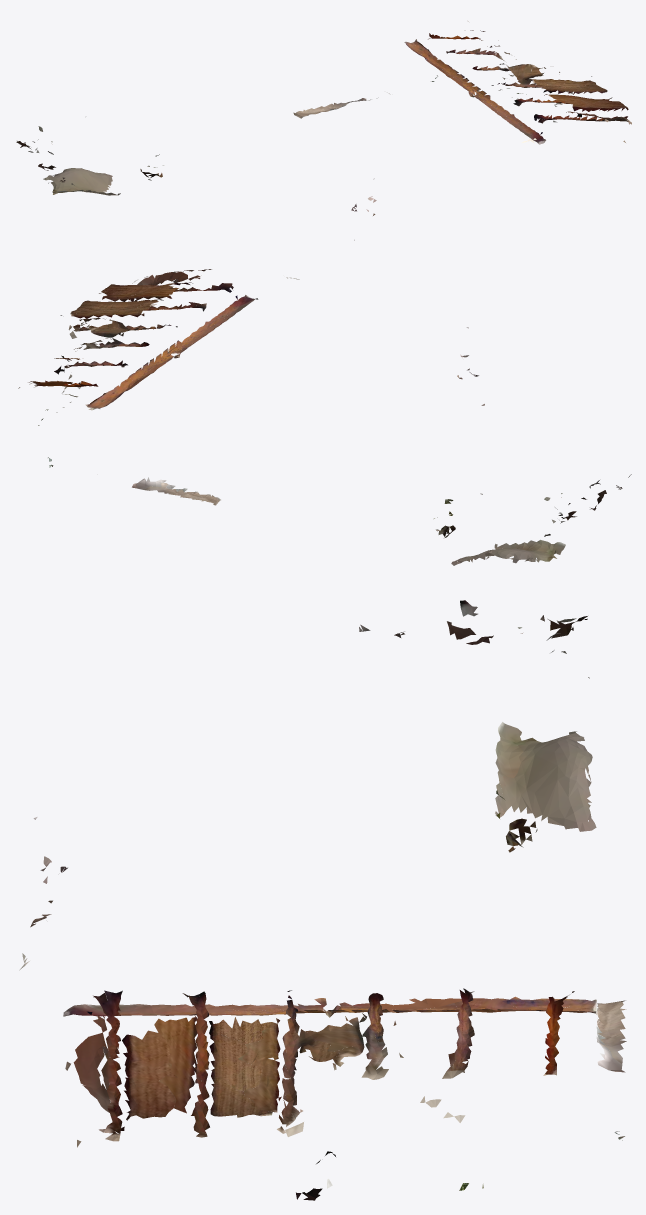
File: esc_baja_techo_04.glb
3 renders of one model, top to bottom at view 1: azimuth 30°, elevation 25°; view 2: azimuth 150°, elevation 25°; view 3: azimuth 270°, elevation 25°, orthographic. The views are drawn at different scales.
Parts seen in each view (by area): view 1: techo_Salon_y_porche_4_GLTF_12, techo_Salon_y_porche_4_GLTF_10, techo_Salon_y_porche_4_GLTF_6, techo_Salon_y_porche_4_GLTF_5, techo_Salon_y_porche_4_GLTF_7, techo_Salon_y_porche_4_GLTF_11, techo_Salon_y_porche_4_GLTF_1, techo_Salon_y_porche_4_GLTF_13; view 2: techo_Salon_y_porche_4_GLTF_12, techo_Salon_y_porche_4_GLTF_10, techo_Salon_y_porche_4_GLTF_5, techo_Salon_y_porche_4_GLTF_13, techo_Salon_y_porche_4_GLTF_6, techo_Salon_y_porche_4_GLTF_1, techo_Salon_y_porche_4_GLTF_11, techo_Salon_y_porche_4_GLTF_7; view 3: techo_Salon_y_porche_4_GLTF_12, techo_Salon_y_porche_4_GLTF_10, techo_Salon_y_porche_4_GLTF_5, techo_Salon_y_porche_4_GLTF_13, techo_Salon_y_porche_4_GLTF_7, techo_Salon_y_porche_4_GLTF_6, techo_Salon_y_porche_4_GLTF_1, techo_Salon_y_porche_4_GLTF_4, techo_Salon_y_porche_4_GLTF_9, techo_Salon_y_porche_4_GLTF_11.
Boxes of the visible parts, left/top/right/bottom form: techo_Salon_y_porche_4_GLTF_12: left=16, top=45, right=619, bottom=240; techo_Salon_y_porche_4_GLTF_10: left=99, top=41, right=631, bottom=195; techo_Salon_y_porche_4_GLTF_6: left=373, top=104, right=627, bottom=215; techo_Salon_y_porche_4_GLTF_5: left=141, top=21, right=590, bottom=177; techo_Salon_y_porche_4_GLTF_7: left=38, top=30, right=501, bottom=130; techo_Salon_y_porche_4_GLTF_11: left=24, top=39, right=501, bottom=182; techo_Salon_y_porche_4_GLTF_1: left=293, top=45, right=512, bottom=211; techo_Salon_y_porche_4_GLTF_13: left=140, top=56, right=559, bottom=180; techo_Salon_y_porche_4_GLTF_12: left=49, top=271, right=631, bottom=565; techo_Salon_y_porche_4_GLTF_10: left=70, top=283, right=600, bottom=549; techo_Salon_y_porche_4_GLTF_5: left=18, top=308, right=455, bottom=536; techo_Salon_y_porche_4_GLTF_13: left=29, top=277, right=518, bottom=563; techo_Salon_y_porche_4_GLTF_6: left=132, top=272, right=458, bottom=377; techo_Salon_y_porche_4_GLTF_1: left=38, top=354, right=475, bottom=505; techo_Salon_y_porche_4_GLTF_11: left=85, top=324, right=622, bottom=517; techo_Salon_y_porche_4_GLTF_7: left=38, top=269, right=548, bottom=500; techo_Salon_y_porche_4_GLTF_12: left=19, top=619, right=624, bottom=1140; techo_Salon_y_porche_4_GLTF_10: left=99, top=783, right=596, bottom=1141; techo_Salon_y_porche_4_GLTF_5: left=238, top=790, right=619, bottom=1188; techo_Salon_y_porche_4_GLTF_13: left=24, top=746, right=587, bottom=1122; techo_Salon_y_porche_4_GLTF_7: left=367, top=618, right=576, bottom=1070; techo_Salon_y_porche_4_GLTF_6: left=30, top=900, right=266, bottom=1147; techo_Salon_y_porche_4_GLTF_1: left=40, top=856, right=626, bottom=1188; techo_Salon_y_porche_4_GLTF_4: left=191, top=841, right=518, bottom=1190; techo_Salon_y_porche_4_GLTF_9: left=86, top=615, right=589, bottom=1017; techo_Salon_y_porche_4_GLTF_11: left=288, top=600, right=596, bottom=1025.
Bounding box in the file's own units: 10.83 × 1.5 × 5.65.
14 materials, 14 textured.
